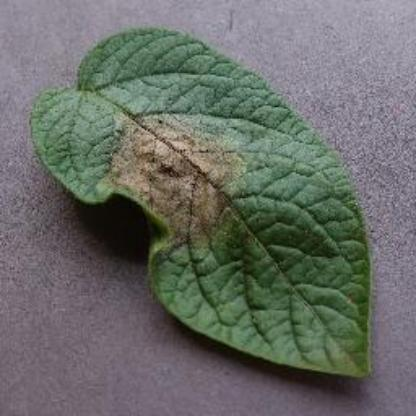Late-Blight: (25, 24, 381, 380)
